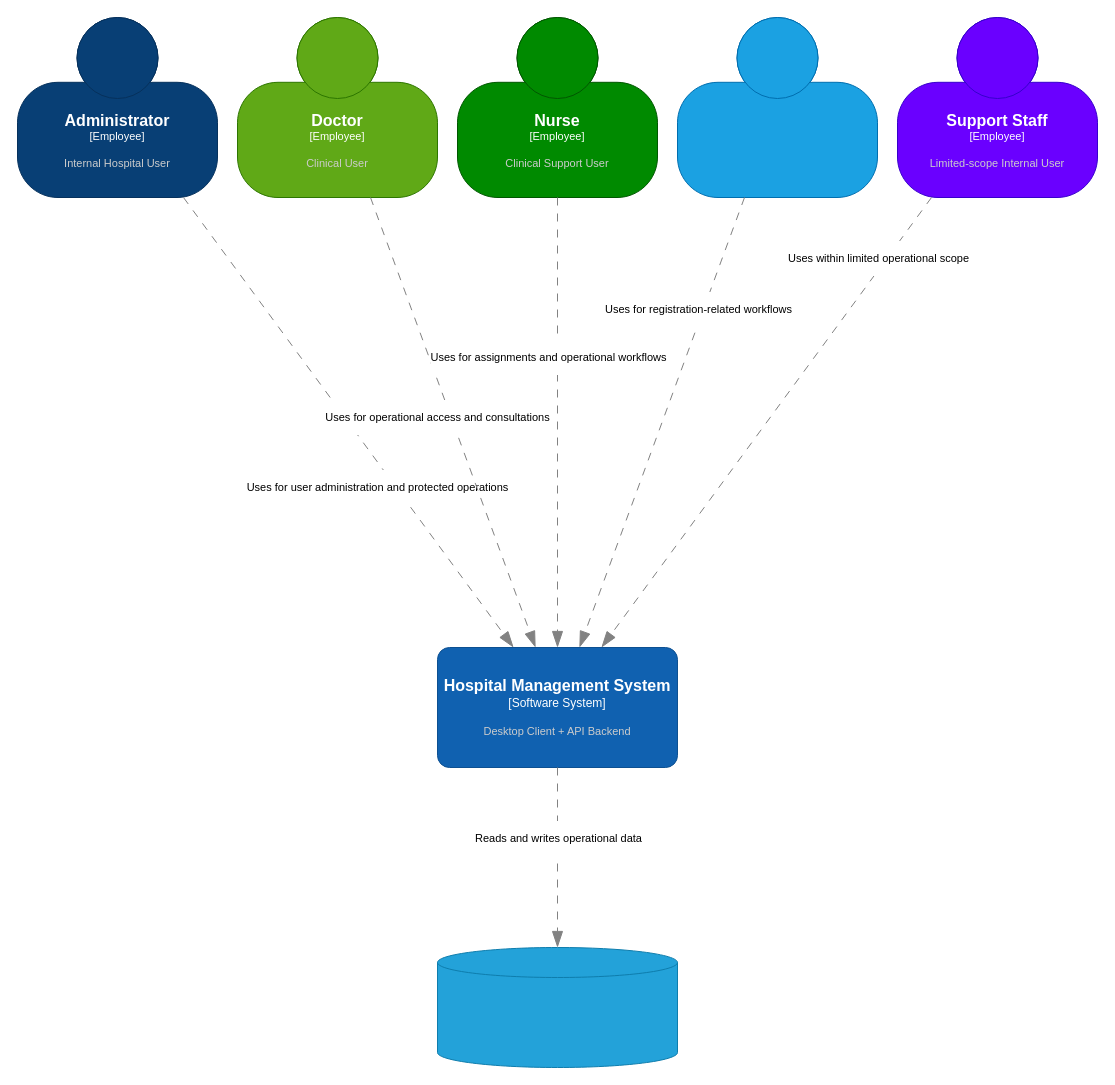
This 1115x1085 diagram has some shape labels left out. Each missing label, with the centre of its shape:
Postgresql Database [Container: PostgreSQL 18] Primary Operation Data Store: point (557, 1007)
Receptionist [Employee] Administrative: point (777, 107)
